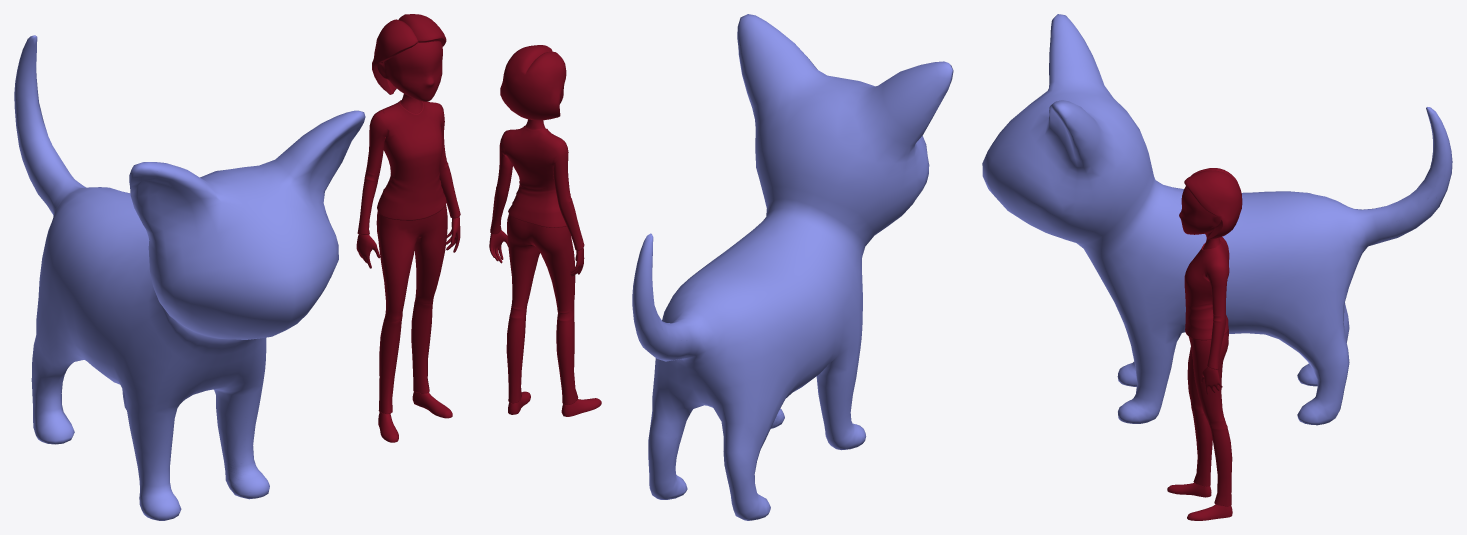
The model's file is catwoman.glb.
3 renders of one model, left to right at view 1: azimuth 30°, elevation 25°; view 2: azimuth 150°, elevation 25°; view 3: azimuth 270°, elevation 25°, orthographic. The views are drawn at different scales.
Visible parts, largest first — view 1: mesh_id28, mesh_id36; view 2: mesh_id28, mesh_id36; view 3: mesh_id28, mesh_id36.
Part boxes in pixels (<box>): mesh_id28: <box>14,35,365,520</box>; mesh_id36: <box>356,14,460,442</box>; mesh_id28: <box>632,14,953,520</box>; mesh_id36: <box>489,45,601,416</box>; mesh_id28: <box>982,14,1452,425</box>; mesh_id36: <box>1167,168,1242,520</box>.
Size of the model in its own units: 0.6717 by 0.6204 by 0.7685.
2 materials, 2 textured.
